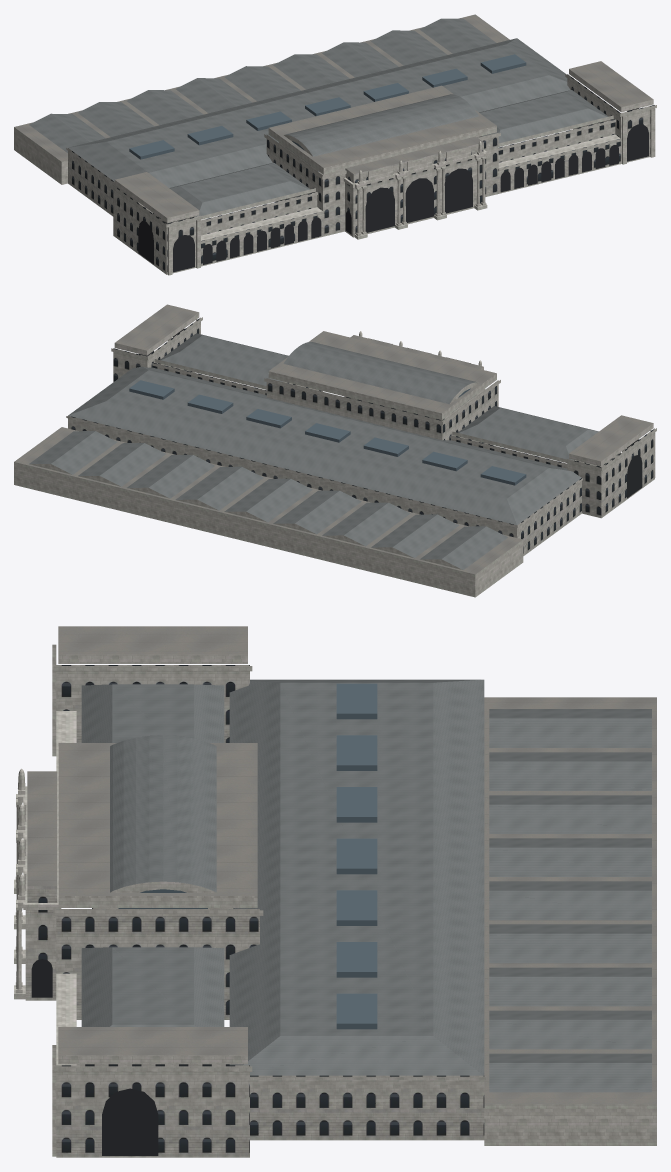
File: union_station.glb
3 renders of one model, top to bottom at view 1: azimuth 30°, elevation 25°; view 2: azimuth 150°, elevation 25°; view 3: azimuth 270°, elevation 25°, orthographic. The views are drawn at different scales.
Visible parts, largest first — view 1: union_station; view 2: union_station; view 3: union_station.
Part boxes in pixels (x1=…): union_station: x1=14, y1=14, x2=656, y2=275; union_station: x1=14, y1=304, x2=656, y2=597; union_station: x1=14, y1=626, x2=656, y2=1157.
Bounding box in the file's own units: 201 × 29 × 126.
Materials: 5 (5 with a texture image).
